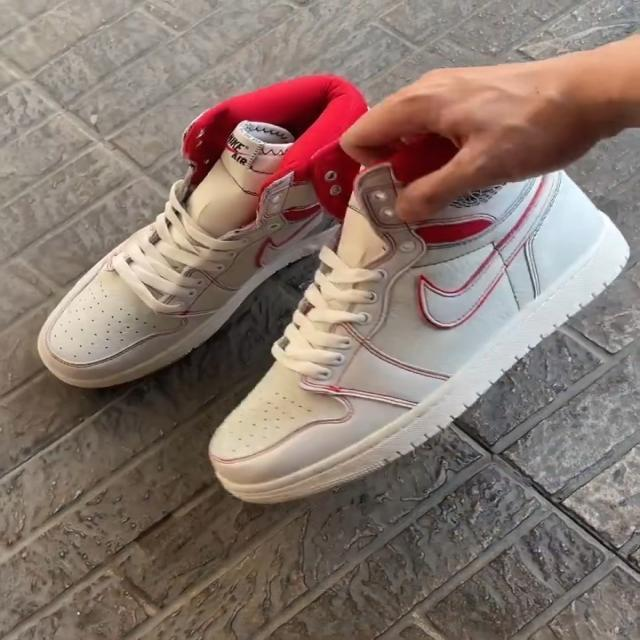nike fake jordan 1: (26, 70, 404, 390)
